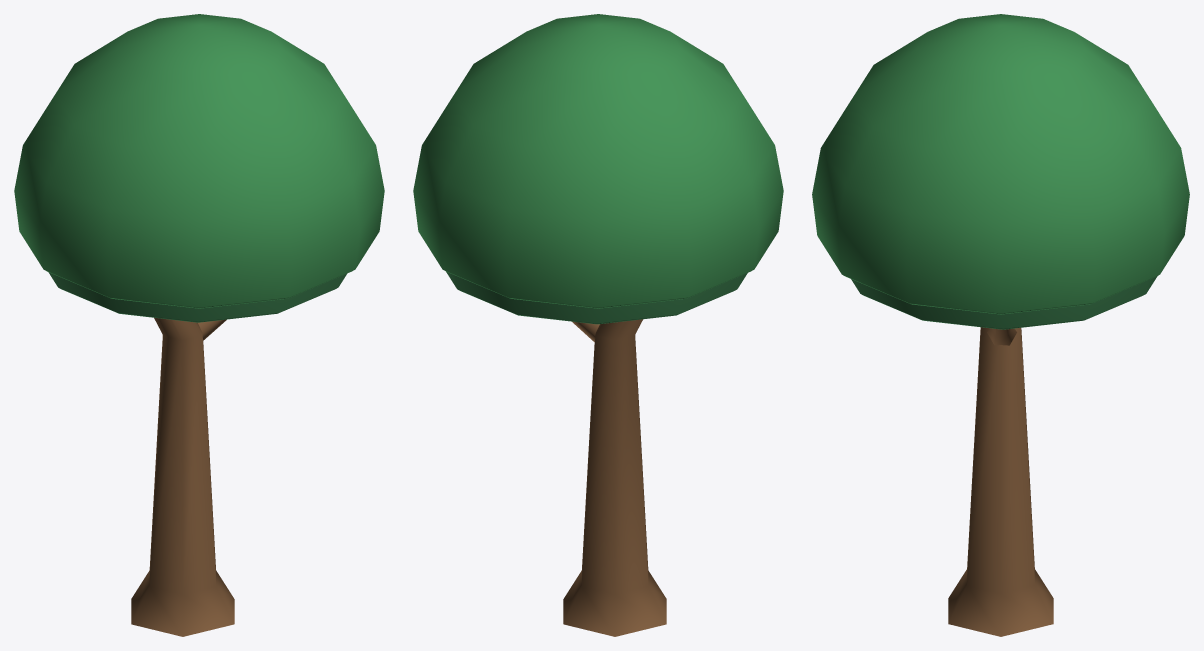
The model's file is tree04.fbx.
3 views of the same model, side by side, from view 1: azimuth 30°, elevation 25°; view 2: azimuth 150°, elevation 25°; view 3: azimuth 270°, elevation 25° (orthographic).
Parts seen in each view (by area): view 1: tree04; view 2: tree04; view 3: tree04.
Boxes of the visible parts, left/top/right/bottom form: tree04: left=14, top=14, right=384, bottom=636; tree04: left=413, top=14, right=783, bottom=636; tree04: left=812, top=14, right=1189, bottom=636.
Bounding box in the file's own units: 3.06 × 5.31 × 3.06.
Materials: 1 (1 with a texture image).
